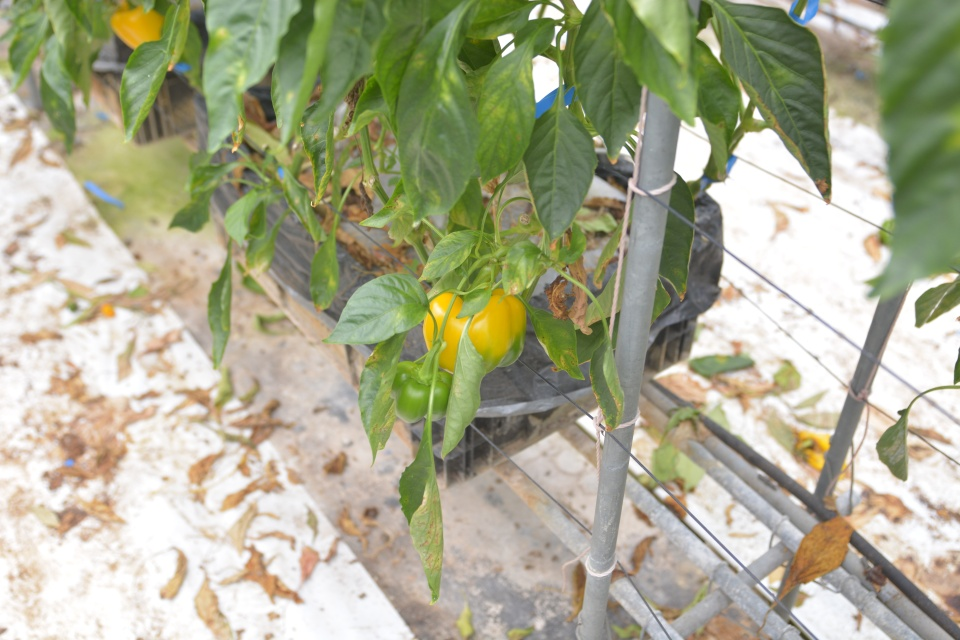fruit: (421, 283, 528, 376), (388, 359, 452, 425), (109, 1, 165, 48)
pedicle: (409, 364, 442, 385)
